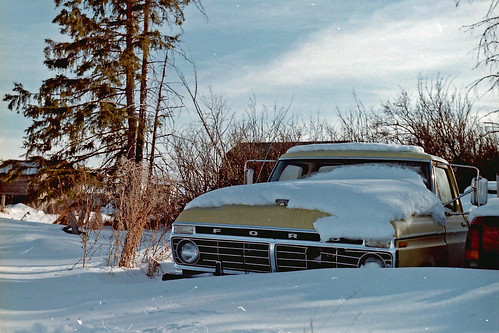car: (163, 141, 492, 288)
sky: (1, 1, 499, 144)
tree: (5, 1, 173, 191)
